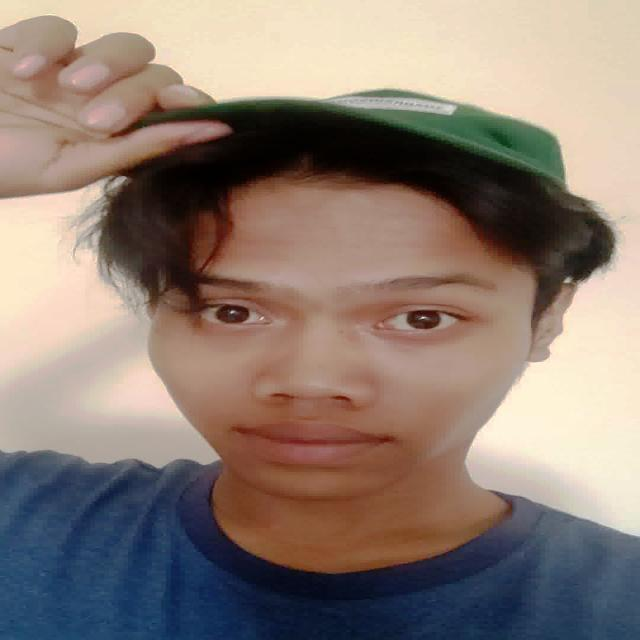TOPI: (77, 47, 608, 203)
